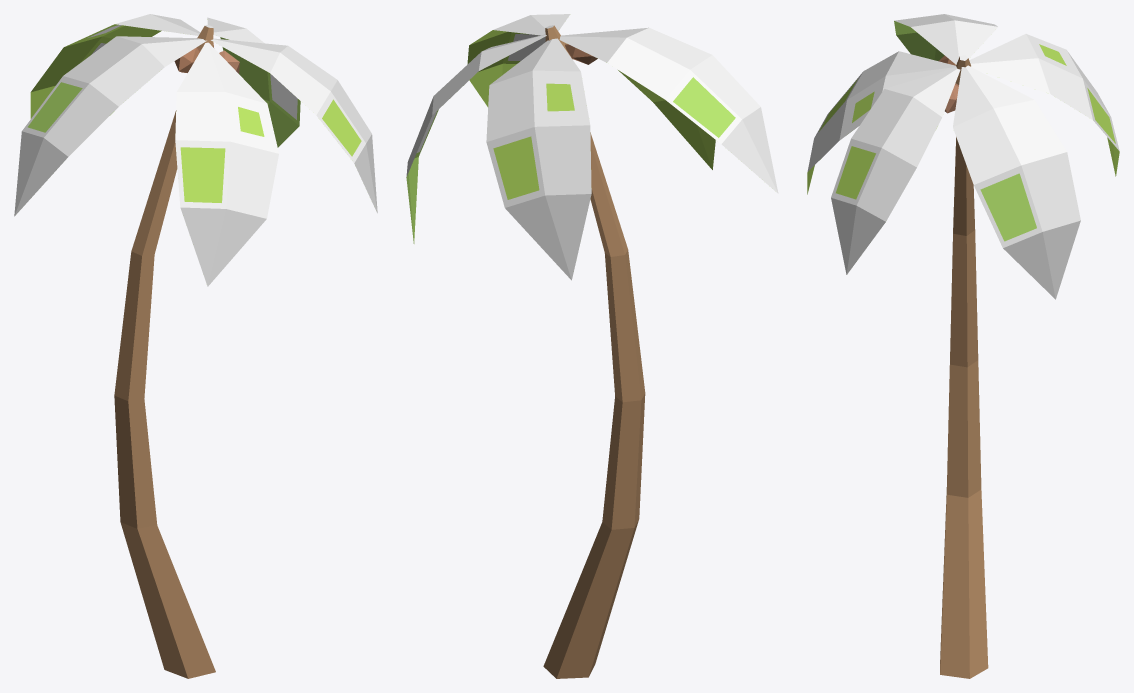
Rendered from Palm_Tree_Coconut_s_Snow_03_LOD.fbx.
3 views of the same model, side by side, from view 1: azimuth 30°, elevation 25°; view 2: azimuth 150°, elevation 25°; view 3: azimuth 270°, elevation 25° (orthographic). The views are drawn at different scales.
Visible parts, largest first — view 1: Palm_Tree_Coconut_s_Snow_03_LOD0; view 2: Palm_Tree_Coconut_s_Snow_03_LOD0; view 3: Palm_Tree_Coconut_s_Snow_03_LOD0.
Part boxes in pixels (box(x1,y1,x2,y2)): Palm_Tree_Coconut_s_Snow_03_LOD0: box(14, 14, 377, 678); Palm_Tree_Coconut_s_Snow_03_LOD0: box(406, 14, 778, 678); Palm_Tree_Coconut_s_Snow_03_LOD0: box(807, 14, 1119, 678).
Size of what is drawn, in the model's own units: 236 by 431 by 196.
